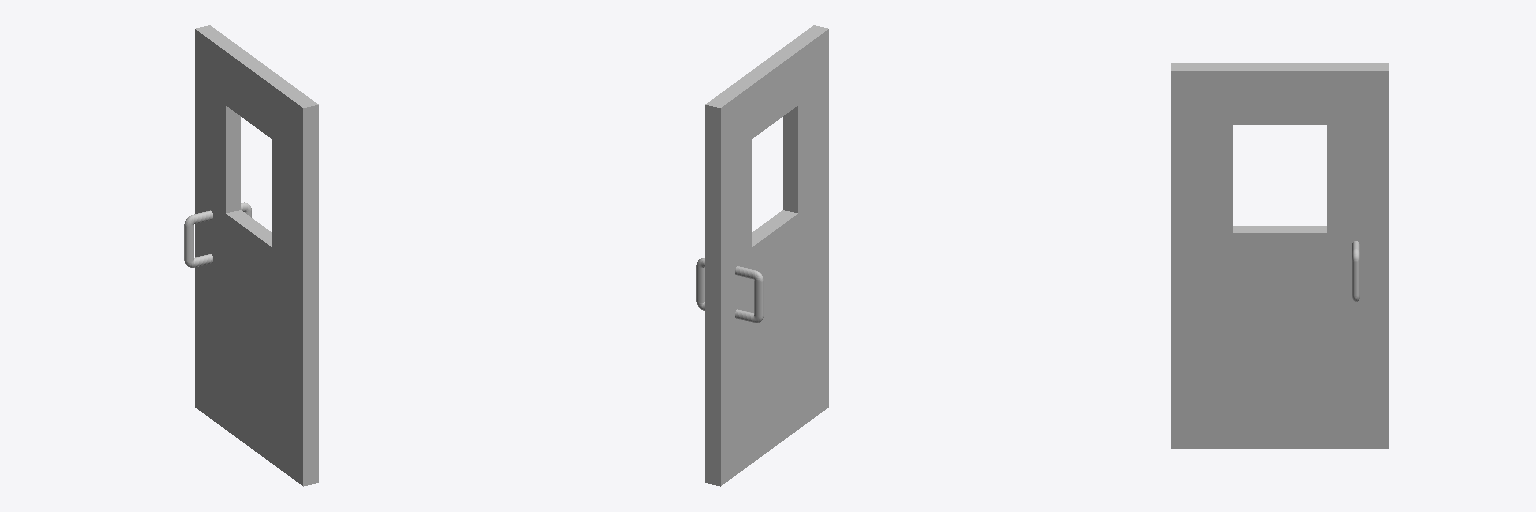
The model's file is puerta_ext_2.obj.
3 renders of one model, left to right at view 1: azimuth 30°, elevation 25°; view 2: azimuth 150°, elevation 25°; view 3: azimuth 270°, elevation 25°, orthographic.
Visible parts, largest first — view 1: Cubo.020_Cubo.022; view 2: Cubo.020_Cubo.022; view 3: Cubo.020_Cubo.022.
Part boxes in pixels (x1,y1,x2,y2): Cubo.020_Cubo.022: (184,25,318,486); Cubo.020_Cubo.022: (696,25,828,486); Cubo.020_Cubo.022: (1171,63,1388,448).
Bounding box in the file's own units: 0.4385 × 2.38 × 1.24.